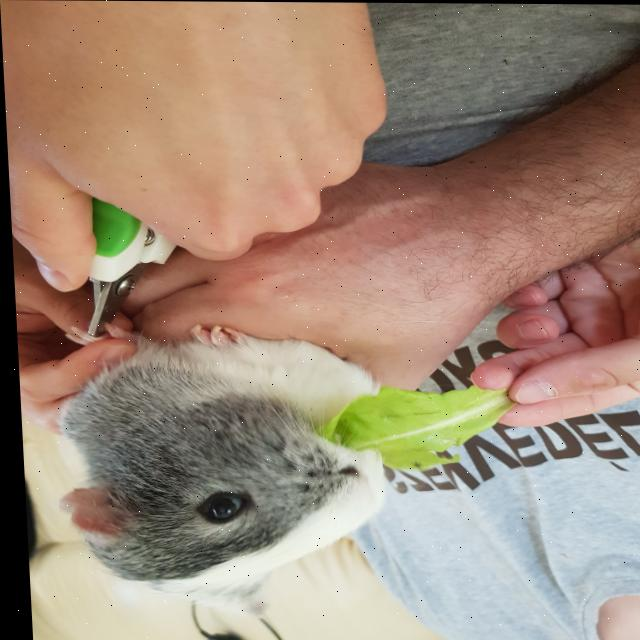guinea pig: (40, 319, 392, 619)
